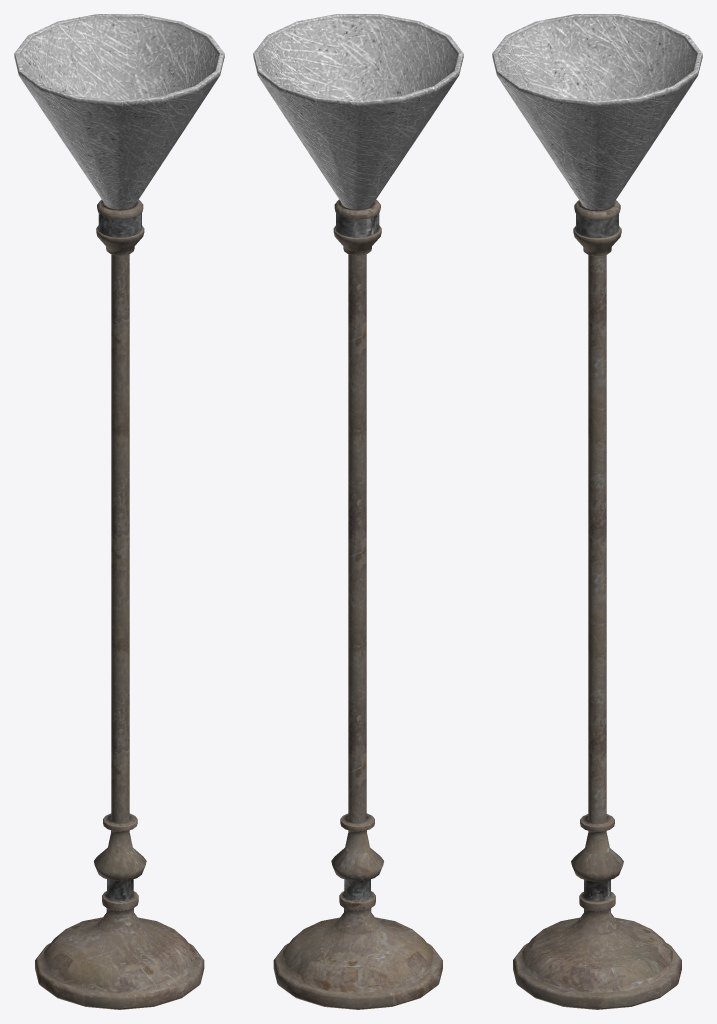
File: LampA.fbx
The picture shows the model from 3 angles, left to right: view 1: azimuth 30°, elevation 25°; view 2: azimuth 150°, elevation 25°; view 3: azimuth 270°, elevation 25°; orthographic projection.
Parts seen in each view (by area): view 1: LampA; view 2: LampA; view 3: LampA.
Part boxes in pixels (<box>): LampA: <box>14,14,224,1009</box>; LampA: <box>253,14,463,1009</box>; LampA: <box>492,14,702,1009</box>.
Bounding box in the file's own units: 45.33 × 219 × 45.58.
